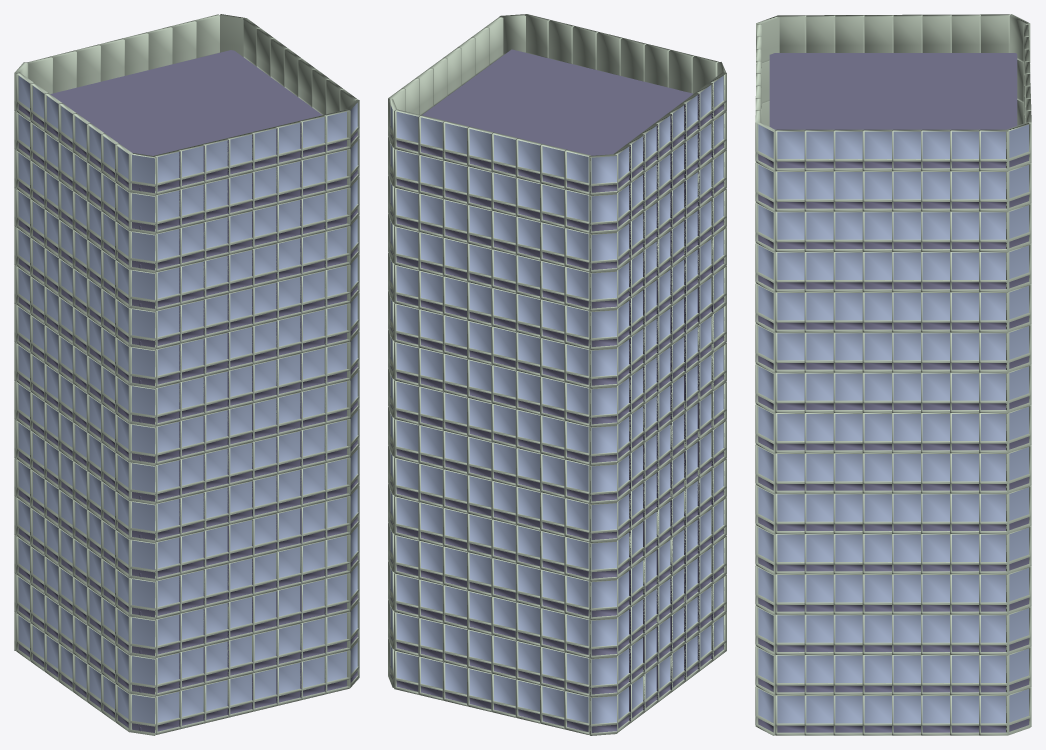
Rendered from skyscraper.fbx.
3 views of the same model, side by side, from view 1: azimuth 30°, elevation 25°; view 2: azimuth 150°, elevation 25°; view 3: azimuth 270°, elevation 25° (orthographic). The views are drawn at different scales.
Parts seen in each view (by area): view 1: Cube.005; view 2: Cube.005; view 3: Cube.005.
Part boxes in pixels (x1=…): Cube.005: x1=14, y1=14, x2=359, y2=735; Cube.005: x1=388, y1=14, x2=726, y2=735; Cube.005: x1=755, y1=14, x2=1031, y2=735.
Bounding box in the file's own units: 1321 × 3151 × 1306.
